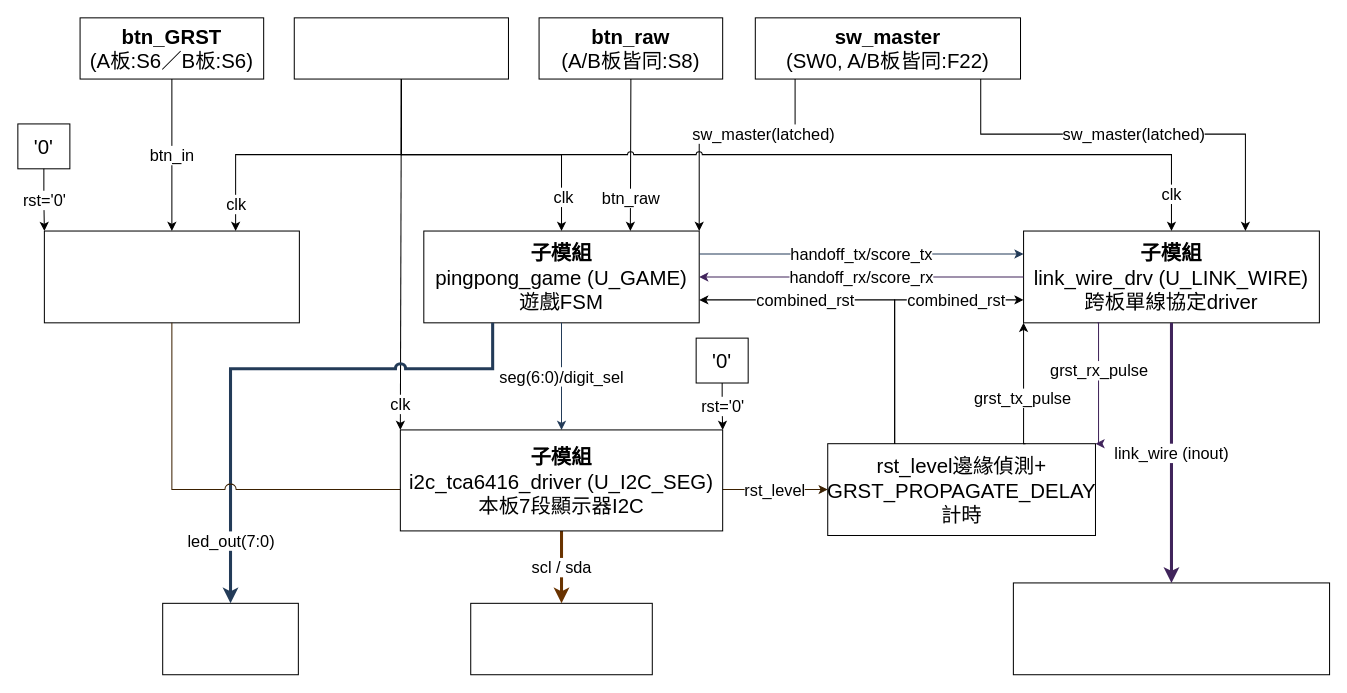
Image size: 1347x693. Some labels were removed from this diagram. Here are the shapes that lost their labels. From the top down, the centre of each, then its label:
(x=400, y=48): clk (Y9, 100MHz GCLK)
(x=171, y=276): 子模組 debounce (U_DB_GRST) GRST去彈跳
(x=230, y=638): led_out(7:0) LED0~LED7
(x=561, y=638): seg_scl / seg_sda U11/U12, 本板7段
(x=1171, y=628): link_wire (inout) JA2腳3, Raspberry Pi GPIO2/Y5 跨板單線協定
